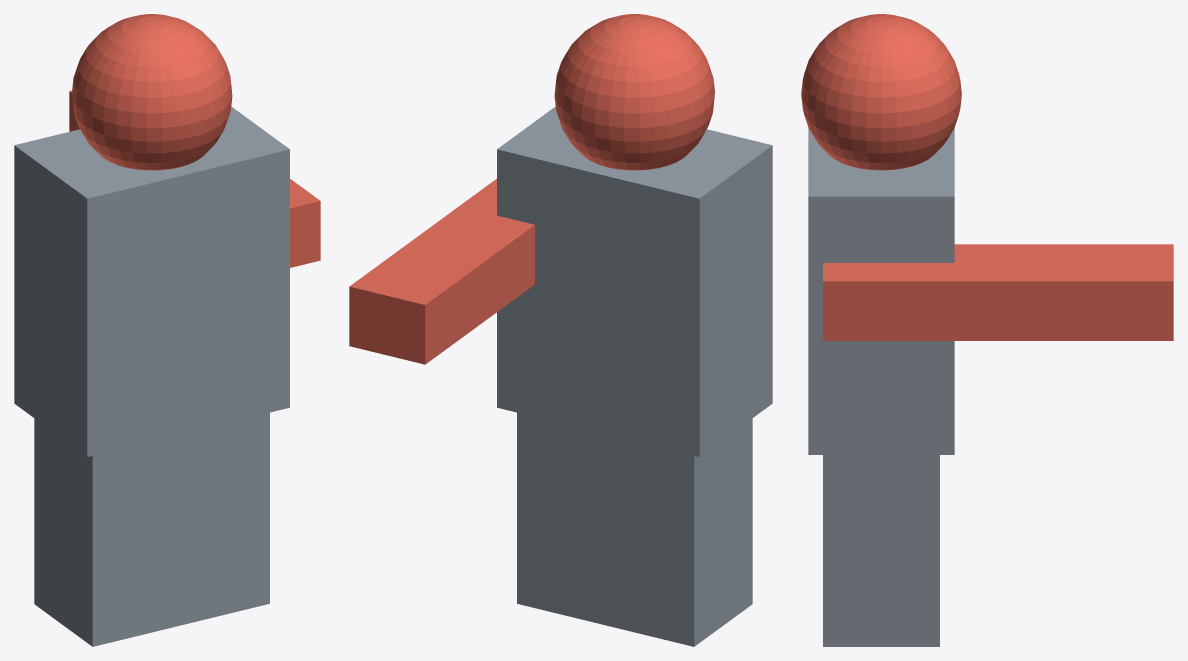
File: SU_RazryadTrooper_LOD0.glb
3 renders of one model, left to right at view 1: azimuth 30°, elevation 25°; view 2: azimuth 150°, elevation 25°; view 3: azimuth 270°, elevation 25°, orthographic.
Parts seen in each view (by area): view 1: Head; view 2: Head; view 3: Head.
Part boxes in pixels (bbox=[...]): Head: bbox=[14, 14, 320, 646]; Head: bbox=[349, 14, 772, 646]; Head: bbox=[801, 14, 1173, 646].
Size of the model in its own units: 76 by 176 by 102.
